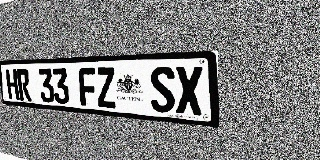3: (52, 68, 70, 104), (38, 69, 55, 103)
F: (78, 68, 98, 107)
H: (5, 69, 20, 100)
R: (17, 69, 31, 101)
S: (149, 66, 175, 113)
X: (175, 66, 203, 116)
Z: (96, 67, 117, 108)
